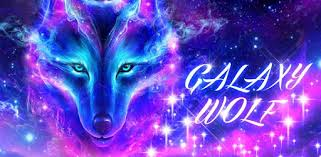Lobo: (20, 4, 188, 146)
